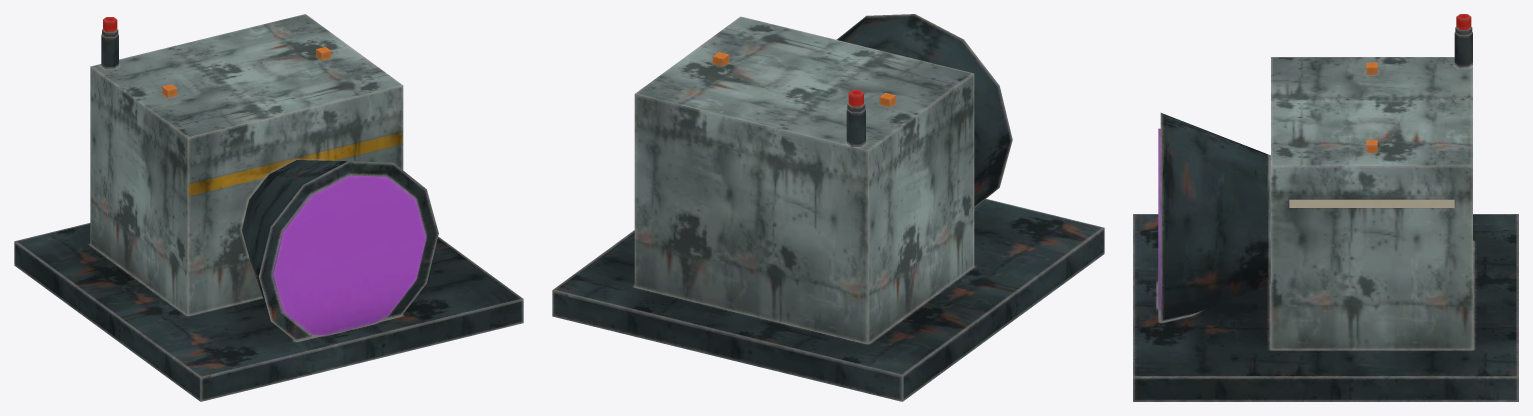
Rendered from fusion_drive.glb.
The picture shows the model from 3 angles, left to right: view 1: azimuth 30°, elevation 25°; view 2: azimuth 150°, elevation 25°; view 3: azimuth 270°, elevation 25°; orthographic projection. The views are drawn at different scales.
Visible parts, largest first — view 1: te_fusion_drive; view 2: te_fusion_drive; view 3: te_fusion_drive.
Part boxes in pixels (x1,y1,x2,y2): te_fusion_drive: (14, 14, 523, 401); te_fusion_drive: (552, 14, 1104, 401); te_fusion_drive: (1133, 14, 1518, 401).
Size of the model in its own units: 0.84 by 0.6176 by 0.84.
1 material, 1 textured.
